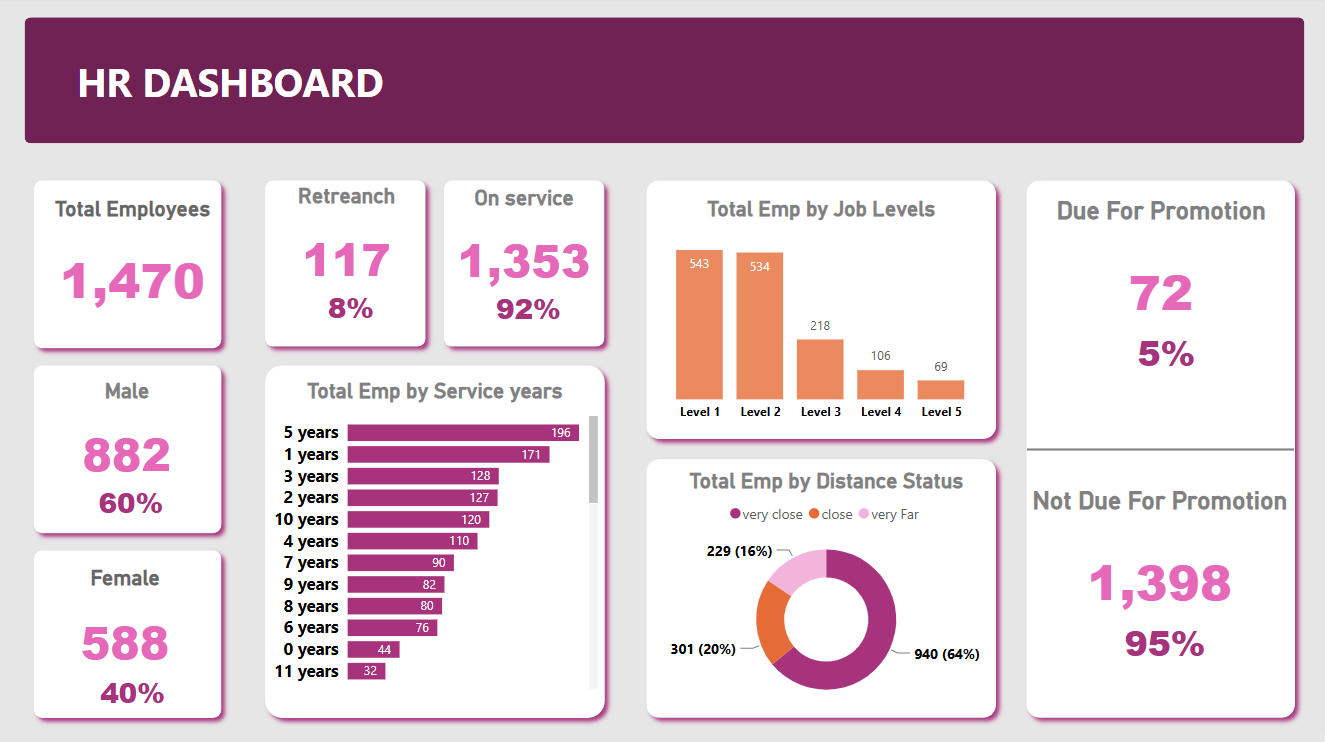

This screenshot's page, from the dashboard's own definition file:
{"tool":"powerbi","page":{"name":"Home","canvas":[1280,720],"ordinal":0},"visuals":[{"type":"shape","box":[26.5,20.5,1235,121.8],"z":0},{"type":"textbox","box":[26.1,53.5,396.6,72.7],"z":1000},{"type":"shape","box":[249.7,168.8,172.9,178.4],"z":2000},{"type":"shape","box":[249.7,347.2,345.8,358.1],"z":3000},{"type":"shape","box":[983.9,168.8,277.2,536.5],"z":4000},{"type":"shape","box":[26.1,169,199,180],"z":5000},{"type":"shape","box":[26.1,347.2,199,180],"z":6000},{"type":"shape","box":[26.1,525.6,199,179.8],"z":7000},{"type":"shape","box":[422.6,168.8,172.9,178.4],"z":8000},{"type":"shape","box":[617.5,437.7,355.4,267.6],"z":9000},{"type":"shape","box":[617.5,168.8,355.4,267.6],"z":10000},{"type":"card","title":"Total Employees","fields":{"Values":["All Measures.Total Emp"]},"box":[35.7,193.5,189.4,134.5],"z":12000},{"type":"card","title":"Female","fields":{"Values":["All Measures.Female"]},"box":[34.3,548.9,179.8,124.9],"z":13000},{"type":"card","title":"Female","fields":{"Values":["All Measures.% female"]},"box":[35.7,640.8,189.4,64.5],"z":14000},{"type":"card","title":"Male","fields":{"Values":["All Measures.Male"]},"box":[35.7,369.1,178.4,120.8],"z":15000},{"type":"card","title":"Female","fields":{"Values":["All Measures.% male"]},"box":[34.3,456.9,190.7,64.5],"z":16000},{"type":"card","title":"Due For Promotion","fields":{"Values":["All Measures.Due for promotions"]},"box":[994.9,193.5,256.6,153.7],"z":17000},{"type":"card","fields":{"Values":["All Measures.% DUE for promotion"]},"box":[994.9,303.3,266.2,83.7],"z":18000},{"type":"shape","box":[993.5,419.9,258,35.7],"z":19000},{"type":"card","title":"Not Due For Promotion","fields":{"Values":["All Measures.Not Due for promotions"]},"box":[993.9,472.4,256.6,153.7],"z":20000},{"type":"card","fields":{"Values":["All Measures.% Not Due for promotion"]},"box":[993.9,582.2,266.2,83.7],"z":21000},{"type":"barChart","fields":{"Category":["HR Analytics Data.Service years"],"Y":["All Measures.Total Emp"]},"box":[260.7,369.1,323.8,304.6],"z":22000},{"type":"columnChart","fields":{"Category":["HR Analytics Data.Job Levels"],"Y":["All Measures.Total Emp"]},"box":[627.1,193.5,336.2,226.4],"z":23000},{"type":"card","title":"Retreanch","fields":{"Values":["All Measures.Will be retreanched"]},"box":[260.7,181.1,153.7,120.8],"z":24000},{"type":"card","title":"Female","fields":{"Values":["All Measures.% Will be retreanched"]},"box":[260.7,269,161.9,64.5],"z":25000},{"type":"card","title":"On service","fields":{"Values":["All Measures.on service"]},"box":[432.1,182.4,153.7,120.8],"z":26000},{"type":"card","title":"Female","fields":{"Values":["All Measures.% on service"]},"box":[432.1,270.2,161.9,64.5],"z":27000},{"type":"donutChart","fields":{"Category":["HR Analytics Data.Distance Status"],"Y":["All Measures.Total Emp"]},"box":[627.1,455.9,346.1,238.8],"z":28000}]}

Visuals, with their boxes in screenshot pixels (x1, y1, x2, y2), scaled from the page's 1280x720 canvas onto the 1325x742 screenshot:
shape: box(27, 21, 1306, 147)
textbox: box(27, 55, 438, 130)
shape: box(258, 174, 437, 358)
shape: box(258, 358, 616, 727)
shape: box(1018, 174, 1305, 727)
shape: box(27, 174, 233, 360)
shape: box(27, 358, 233, 543)
shape: box(27, 542, 233, 727)
shape: box(437, 174, 616, 358)
shape: box(639, 451, 1007, 727)
shape: box(639, 174, 1007, 450)
"Total Employees" card: box(37, 199, 233, 338)
"Female" card: box(36, 566, 222, 694)
"Female" card: box(37, 660, 233, 727)
"Male" card: box(37, 380, 222, 505)
"Female" card: box(36, 471, 233, 537)
"Due For Promotion" card: box(1030, 199, 1295, 358)
card - All Measures.% DUE for promotion: box(1030, 313, 1305, 399)
shape: box(1028, 433, 1295, 470)
"Not Due For Promotion" card: box(1029, 487, 1294, 645)
card - All Measures.% Not Due for promotion: box(1029, 600, 1304, 686)
barChart - HR Analytics Data.Service years x All Measures.Total Emp: box(270, 380, 605, 694)
columnChart - HR Analytics Data.Job Levels x All Measures.Total Emp: box(649, 199, 997, 433)
"Retreanch" card: box(270, 187, 429, 311)
"Female" card: box(270, 277, 437, 344)
"On service" card: box(447, 188, 606, 312)
"Female" card: box(447, 278, 615, 345)
donutChart - HR Analytics Data.Distance Status x All Measures.Total Emp: box(649, 470, 1007, 716)
